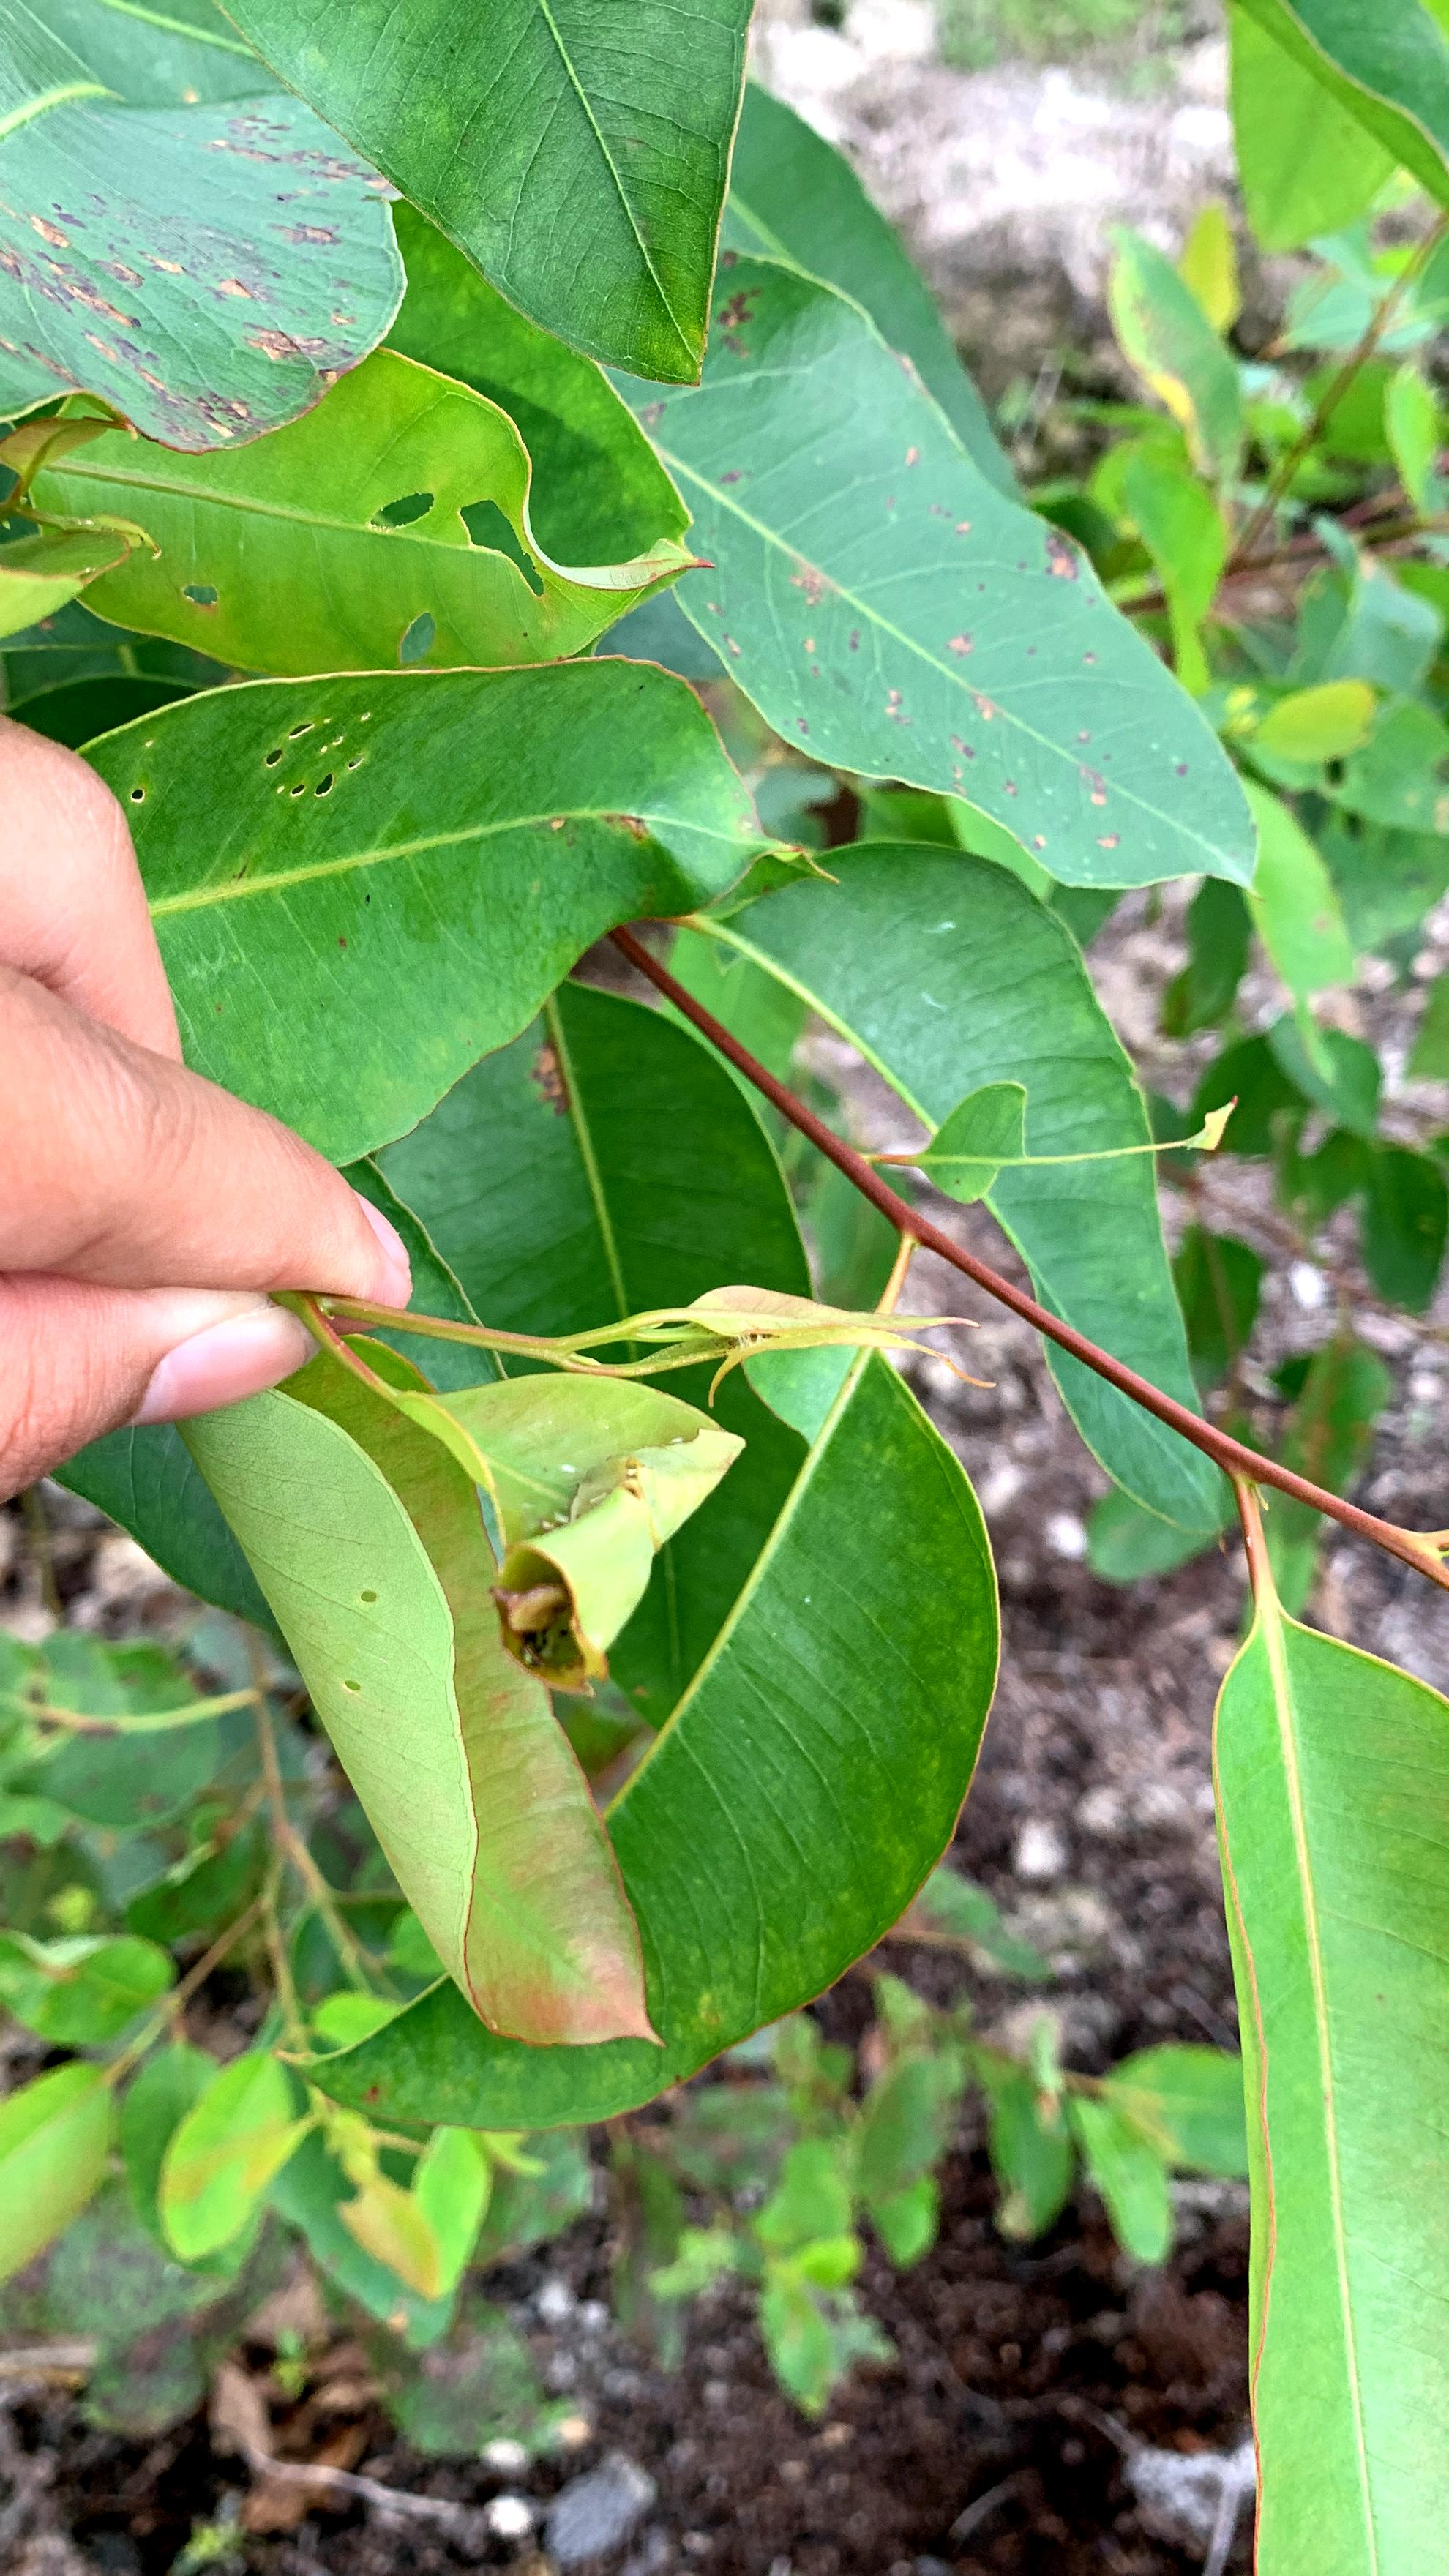Leaf Roller - Leaf: (313, 1215, 938, 1776)
